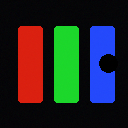2 circle: (99, 54, 117, 72)
